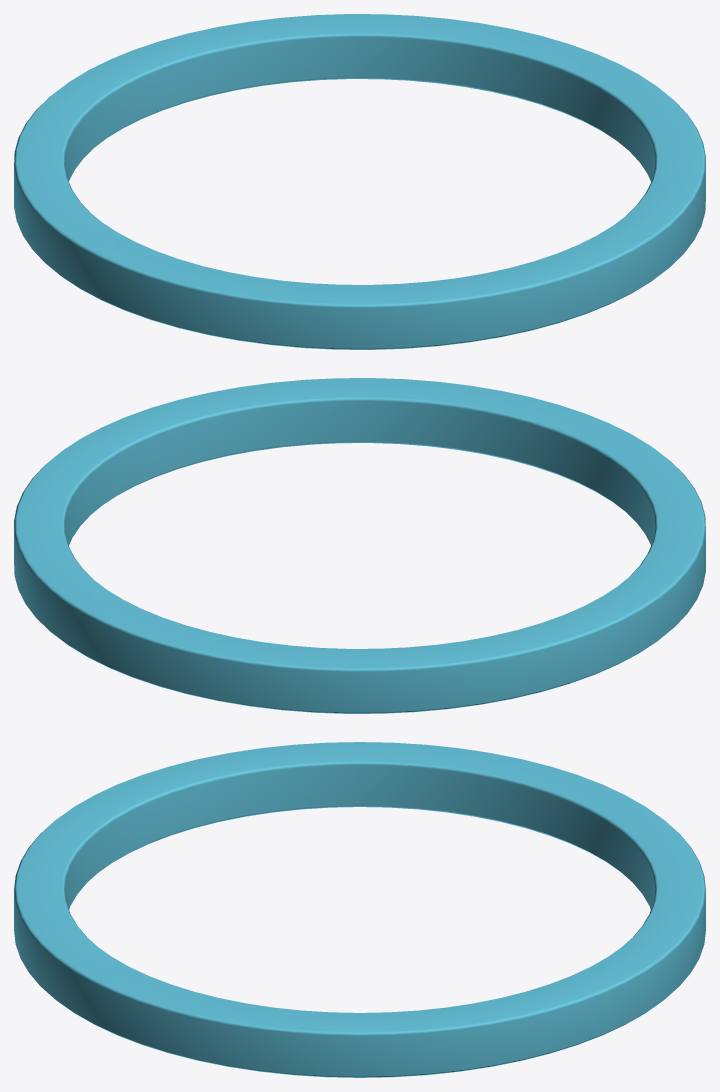
3 renders of one model, top to bottom at view 1: azimuth 30°, elevation 25°; view 2: azimuth 150°, elevation 25°; view 3: azimuth 270°, elevation 25°, orthographic.
Visible parts, largest first — view 1: seal_body; view 2: seal_body; view 3: seal_body.
Boxes of the visible parts, left/top/right/bottom form: seal_body: left=14, top=14, right=705, bottom=349; seal_body: left=14, top=378, right=705, bottom=713; seal_body: left=14, top=742, right=705, bottom=1077.
Size of the model in its own units: 0.108 by 0.00793 by 0.108.
